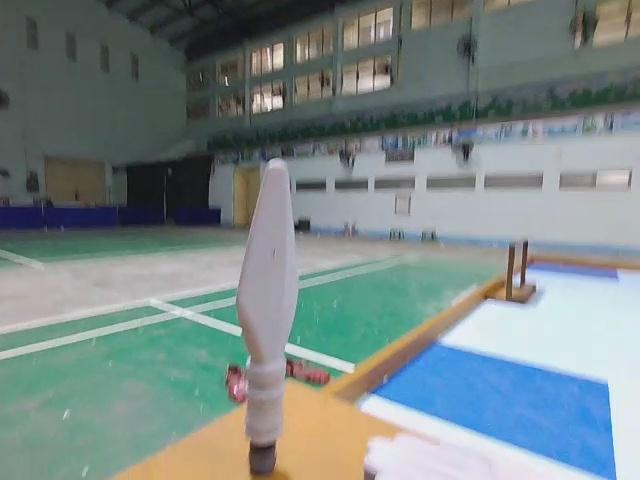Hand: (357, 431, 543, 480)
Sph: (231, 158, 302, 480)
